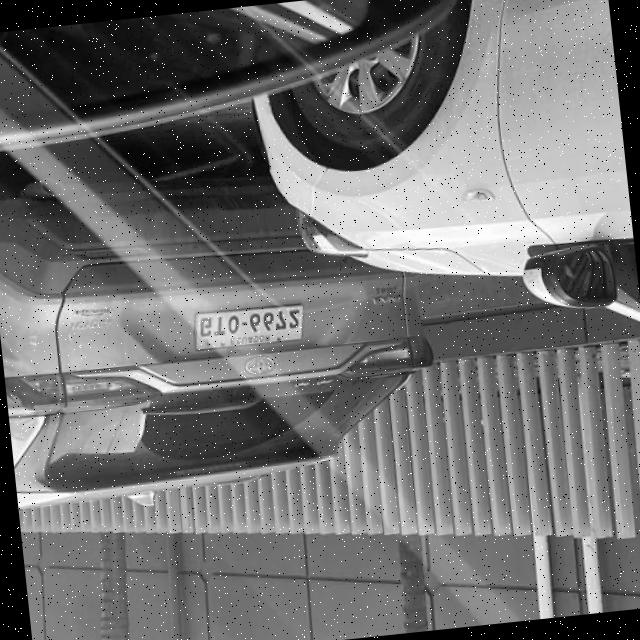Placa: (193, 304, 302, 351)
